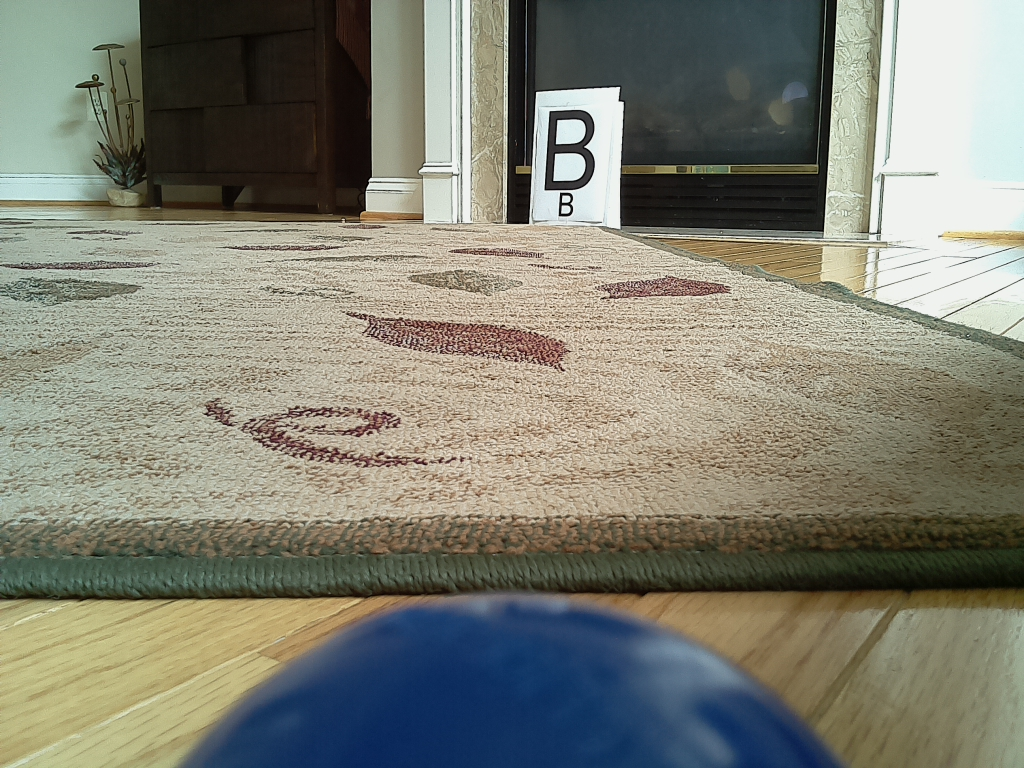letter: (549, 111, 596, 191)
